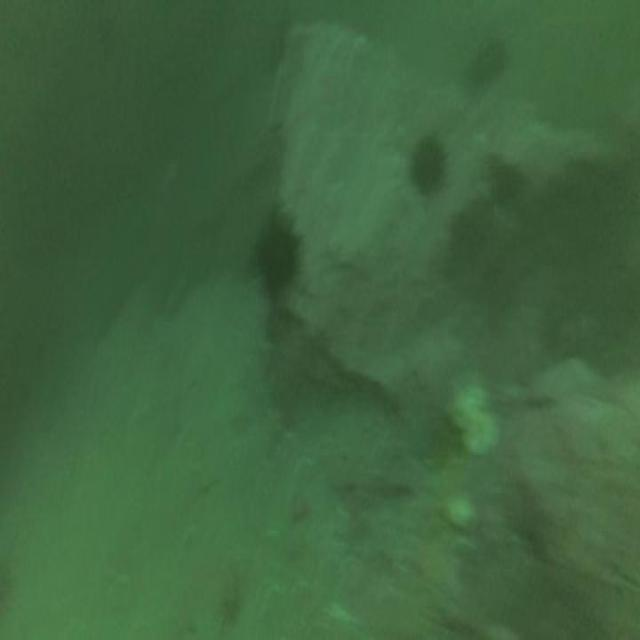echinus: (250, 218, 305, 302), (407, 128, 452, 201), (472, 34, 507, 92)
holothurian: (218, 556, 241, 631)
